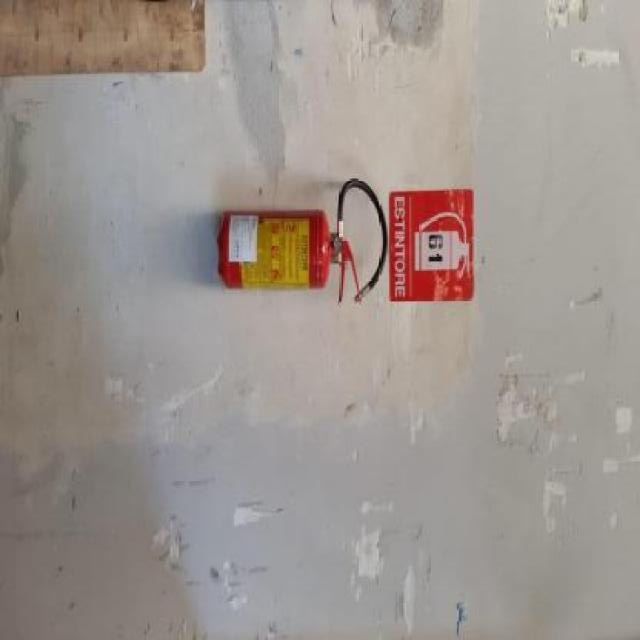fire extinguisher: (217, 180, 388, 305)
